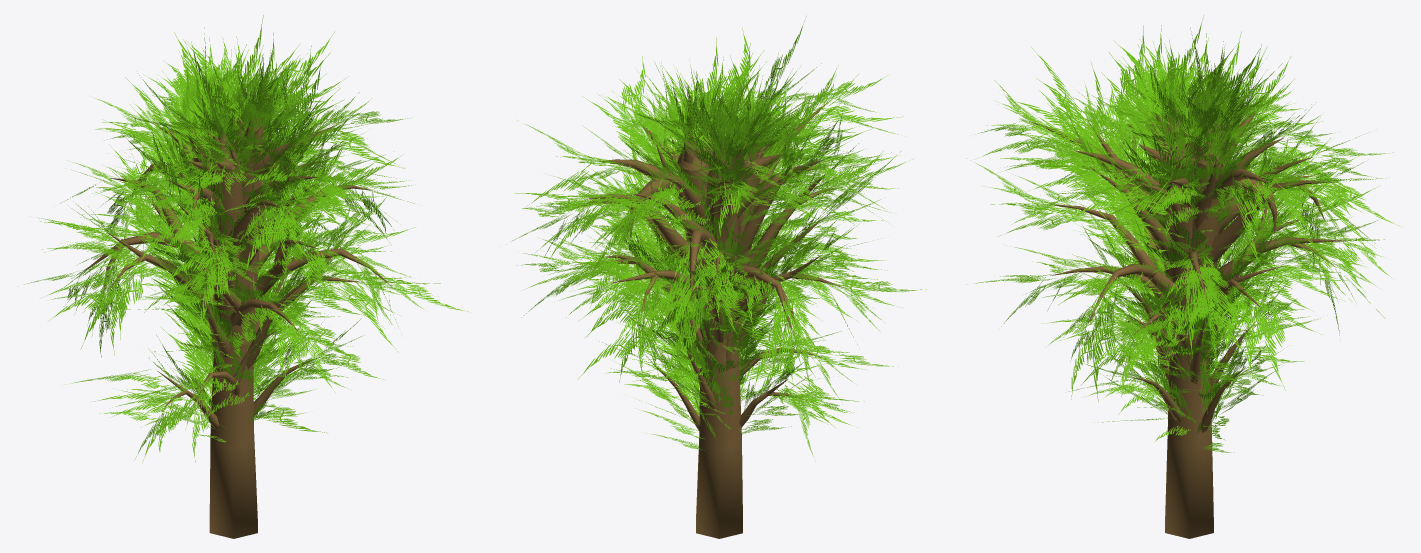
File: RainForest3.fbx
3 views of the same model, side by side, from view 1: azimuth 30°, elevation 25°; view 2: azimuth 150°, elevation 25°; view 3: azimuth 270°, elevation 25° (orthographic). The views are drawn at different scales.
Parts seen in each view (by area): view 1: leaves.006, tree.002; view 2: leaves.006, tree.002; view 3: leaves.006, tree.002.
Part boxes in pixels (x1=…): leaves.006: x1=24, y1=15, x2=468, y2=463; tree.002: x1=79, y1=106, x2=393, y2=538; leaves.006: x1=512, y1=16, x2=926, y2=456; tree.002: x1=567, y1=101, x2=848, y2=538; leaves.006: x1=967, y1=16, x2=1398, y2=452; tree.002: x1=1028, y1=103, x2=1346, y2=538.
Bounding box in the file's own units: 1074 × 1276 × 1029.
Materials: 2 (1 with a texture image).
